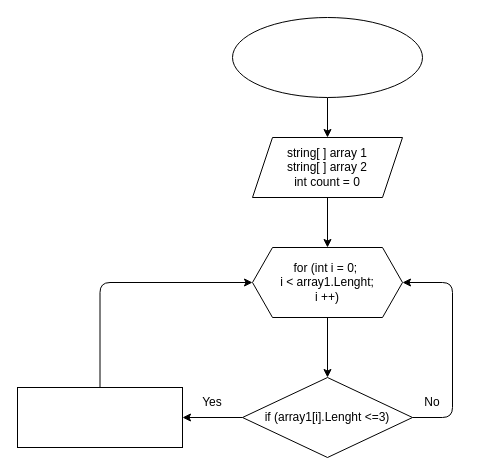
Image size: 480x475. Some labels were removed from this diagram. Here are the shapes that lost their labels. From the top down, the centre of each, then its label:
point 327,57: SecondArrayWithI
point 99,417: array2[count] = array1[i] count ++;
